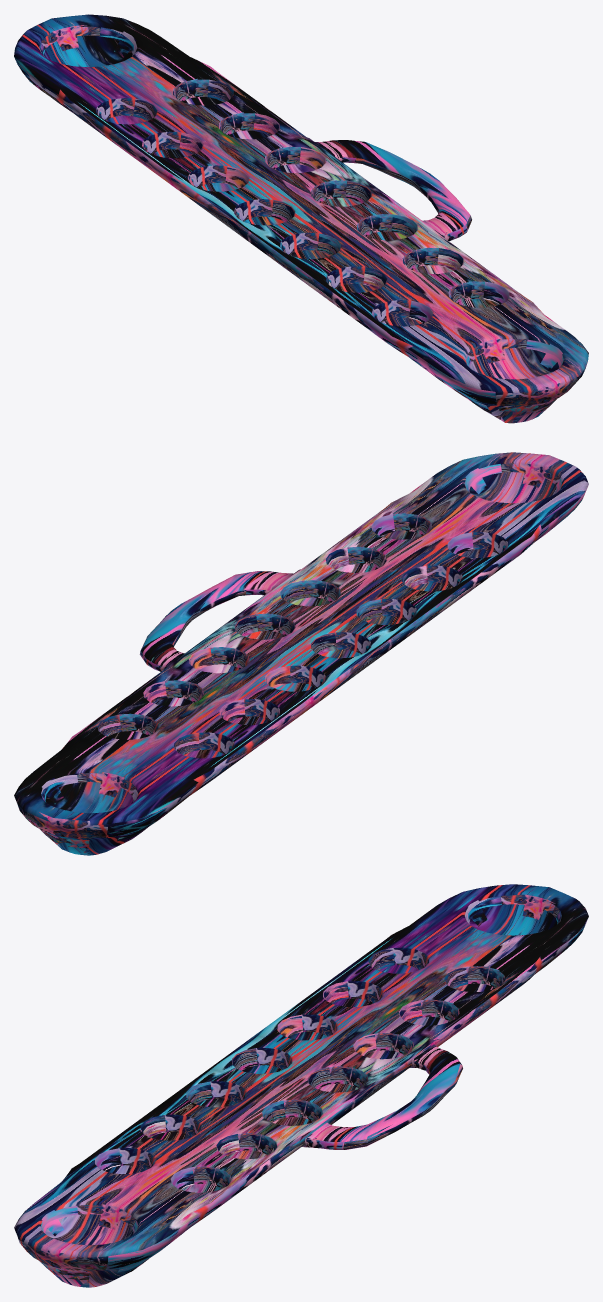
Rendered from ph_sungka_board.glb.
3 renders of one model, top to bottom at view 1: azimuth 30°, elevation 25°; view 2: azimuth 150°, elevation 25°; view 3: azimuth 330°, elevation 25°, orthographic.
Visible parts, largest first — view 1: A; view 2: A; view 3: A.
Boxes of the visible parts, x1,y1,x2,y2 form: A: [14, 14, 588, 423]; A: [14, 452, 588, 855]; A: [14, 884, 588, 1287].
Bounding box in the file's own units: 0.4661 × 0.1173 × 2.
1 material, 1 textured.
